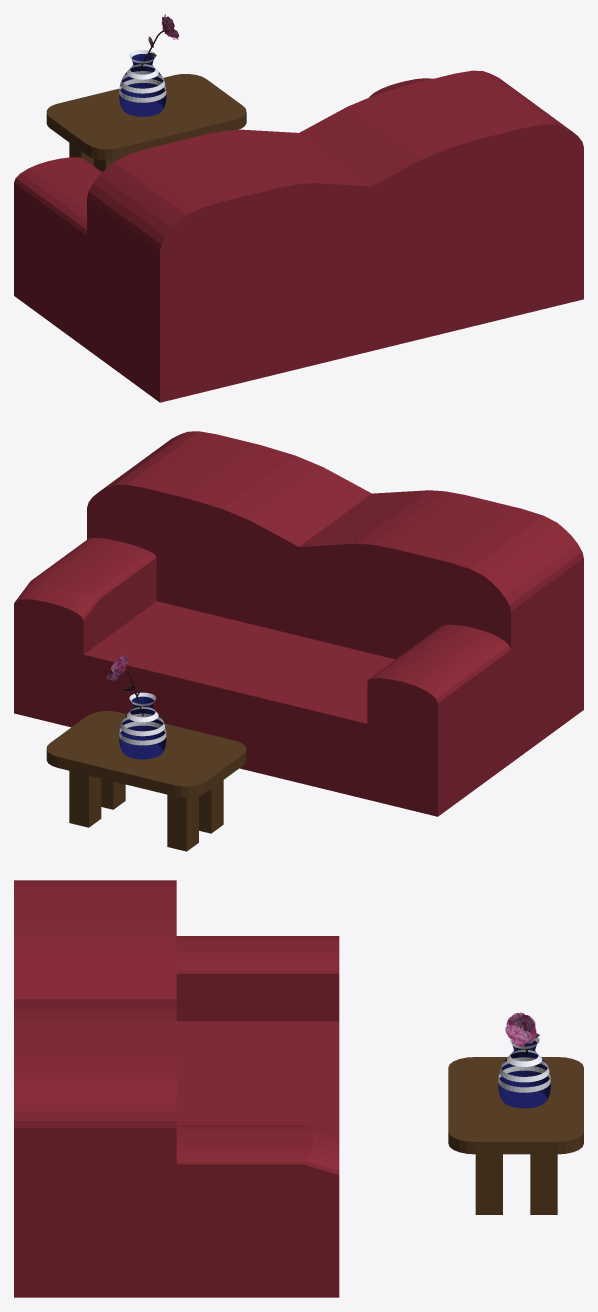
The model's file is sala2.gltf.
3 views of the same model, one above another, from view 1: azimuth 30°, elevation 25°; view 2: azimuth 150°, elevation 25°; view 3: azimuth 270°, elevation 25° (orthographic). The views are drawn at different scales.
Parts seen in each view (by area): view 1: Cube, Plane, Circle; view 2: Cube, Plane, Circle; view 3: Cube, Plane, Circle, Cone.002.
Boxes of the visible parts, left/top/right/bottom form: Cube: left=14, top=70, right=583, bottom=402; Plane: left=46, top=74, right=246, bottom=172; Circle: left=119, top=50, right=166, bottom=116; Cube: left=14, top=431, right=583, bottom=816; Plane: left=46, top=711, right=246, bottom=851; Circle: left=119, top=692, right=166, bottom=759; Cube: left=14, top=880, right=339, bottom=1297; Plane: left=448, top=1057, right=583, bottom=1214; Circle: left=498, top=1037, right=550, bottom=1108; Cone.002: left=505, top=1012, right=540, bottom=1057.
Bounding box in the file's own units: 9.98 × 4.2 × 10.44.
Materials: 8 (3 with a texture image).
